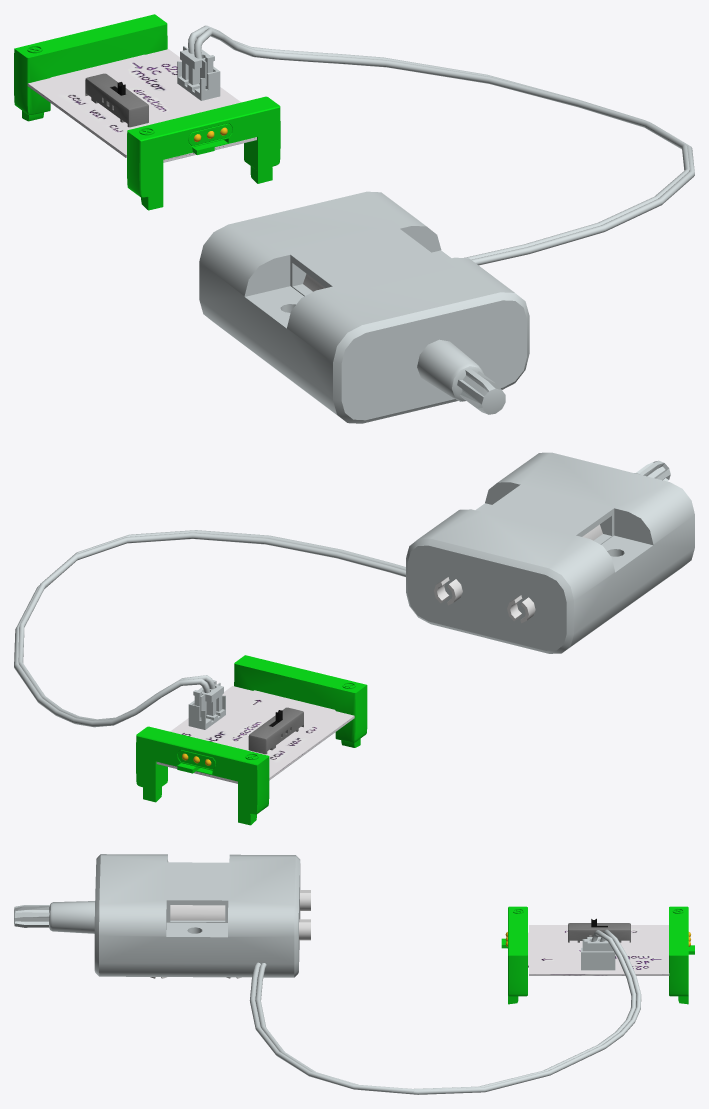
The model's file is littlebit o25 dc motor.fbx.
The picture shows the model from 3 angles, top to bottom: view 1: azimuth 30°, elevation 25°; view 2: azimuth 150°, elevation 25°; view 3: azimuth 270°, elevation 25°; orthographic projection. The views are drawn at different scales.
Visible parts, largest first — view 1: Rectangle001, Line001, Box001, Line002, Loft002, Loft001, Cylinder002, Box002, Cylinder001, Box005, Box004; view 2: Rectangle001, Line002, Box001, Line001, Loft001, Loft002, Box002, Box005, Box004; view 3: Rectangle001, Box001, Loft001, Loft002, Line001, Line002, Cylinder002, Cylinder003, Box002, Cylinder001, Box004.
Part boxes in pixels (box(x1,y1,x2,y2)): Rectangle001: box(199, 191, 529, 423); Line001: box(127, 96, 280, 210); Box001: box(27, 49, 256, 162); Line002: box(14, 14, 167, 121); Loft002: box(194, 28, 694, 265); Loft001: box(188, 25, 689, 259); Cylinder002: box(417, 339, 484, 401); Box002: box(85, 73, 148, 127); Cylinder001: box(457, 368, 505, 414); Box005: box(180, 46, 214, 89); Box004: box(177, 61, 220, 100); Rectangle001: box(406, 452, 694, 653); Line002: box(136, 726, 269, 825); Box001: box(156, 686, 354, 783); Line001: box(234, 655, 367, 747); Loft001: box(14, 532, 405, 727); Loft002: box(18, 530, 405, 720); Box002: box(248, 707, 303, 754); Box005: box(193, 680, 223, 719); Box004: box(188, 695, 225, 729); Rectangle001: box(94, 854, 300, 977); Box001: box(528, 925, 669, 975); Loft001: box(255, 929, 641, 1094); Loft002: box(249, 930, 636, 1092); Line001: box(501, 906, 527, 1004); Line002: box(669, 906, 694, 1004); Cylinder002: box(49, 901, 94, 933); Cylinder003: box(170, 905, 225, 920); Box002: box(568, 923, 630, 942); Cylinder001: box(14, 905, 49, 927); Box004: box(581, 947, 615, 970).
Bounding box in the file's own units: 99.81 × 154 × 20.
